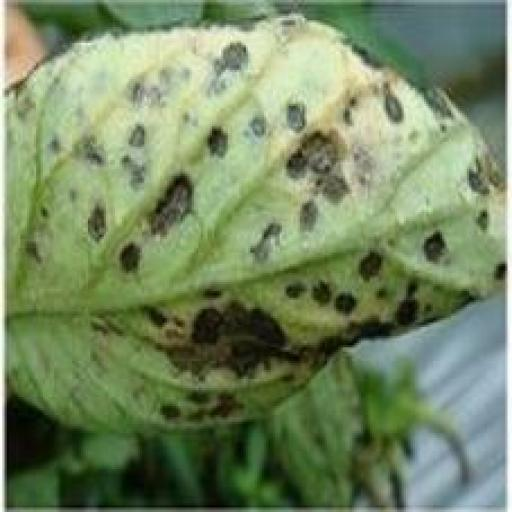Late Blight: (4, 8, 507, 448)
